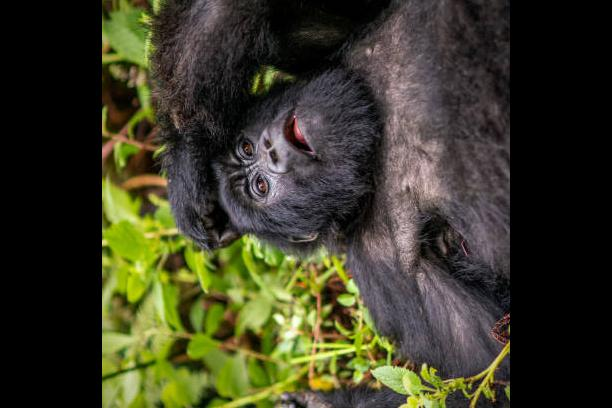goriile_montagne: (161, 0, 503, 408)
